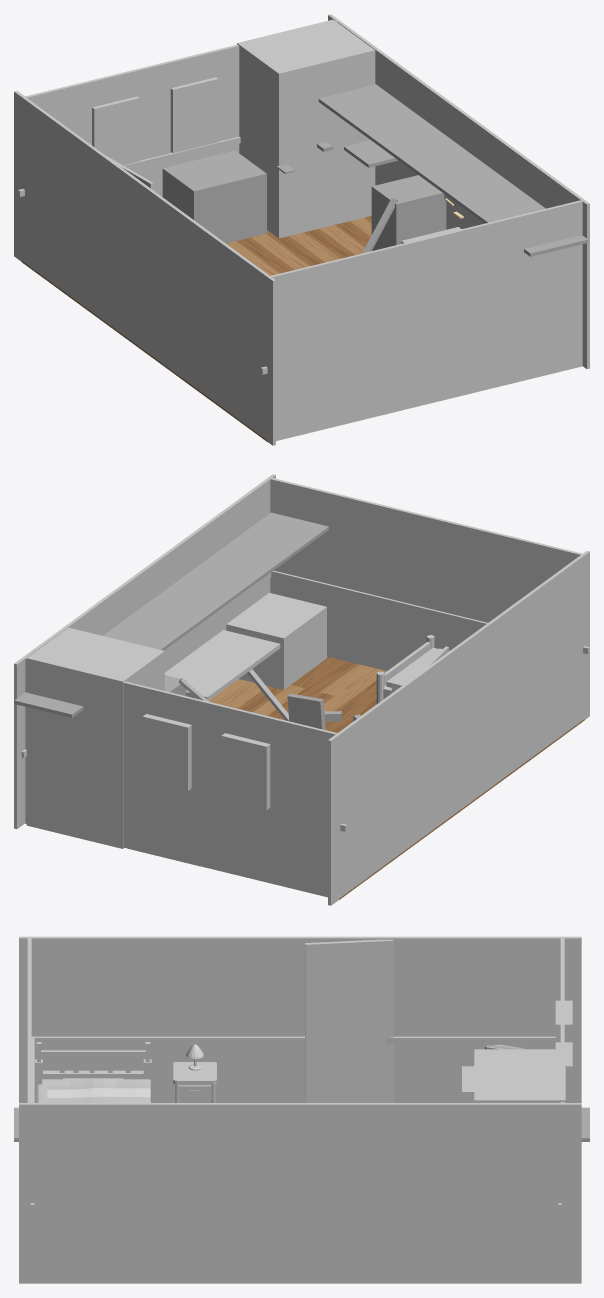
The model's file is maphome.fbx.
The picture shows the model from 3 angles, top to bottom: view 1: azimuth 30°, elevation 25°; view 2: azimuth 150°, elevation 25°; view 3: azimuth 270°, elevation 25°; orthographic projection. The views are drawn at different scales.
Visible parts, largest first — view 1: Cube.014, Cube.015, Cube.021, Cube__2_, Cube__31_, Cube, Cube__7_, Cube.018, Cube.017, Cube.019, Cube__28_; view 2: Cube.014, Cube.015, Cube.021, Cube__2_, Cube, Cube.012, Cube.022, Cube.017, Cube.018, Cube.019, Cube__14_, Cube.020; view 3: Cube.015, Cube.016, Cube.021, Cube.020, Cube.008, Cube.003, Cube.009, Cube.014, Cube.007, Cube.017, Cube.018, Cube__2_ (+1 smaller).
Part boxes in pixels (<box>): Cube.014: <box>23,20,582,440</box>; Cube.015: <box>14,14,589,445</box>; Cube.021: <box>237,19,375,238</box>; Cube__2_: <box>318,84,587,256</box>; Cube__31_: <box>162,150,266,243</box>; Cube: <box>22,216,371,442</box>; Cube__7_: <box>371,175,446,250</box>; Cube.018: <box>170,77,218,153</box>; Cube.017: <box>92,96,139,165</box>; Cube.019: <box>18,136,267,374</box>; Cube__28_: <box>344,140,398,167</box>; Cube.014: <box>25,478,584,897</box>; Cube.015: <box>14,474,589,905</box>; Cube.021: <box>26,627,164,848</box>; Cube__2_: <box>14,512,328,717</box>; Cube: <box>209,656,584,899</box>; Cube.012: <box>226,593,326,689</box>; Cube.022: <box>165,630,280,700</box>; Cube.017: <box>221,733,270,809</box>; Cube.018: <box>142,714,191,790</box>; Cube.019: <box>271,570,589,831</box>; Cube__14_: <box>287,693,325,729</box>; Cube.020: <box>21,572,271,757</box>; Cube.015: <box>19,936,581,1283</box>; Cube.016: <box>305,939,393,1102</box>; Cube.021: <box>474,1049,565,1102</box>; Cube.020: <box>34,1036,555,1044</box>; Cube.008: <box>47,1078,152,1102</box>; Cube.003: <box>35,1042,151,1102</box>; Cube.009: <box>173,1062,216,1100</box>; Cube.014: <box>27,937,564,1102</box>; Cube.007: <box>42,1070,144,1079</box>; Cube.017: <box>555,1000,572,1042</box>; Cube.018: <box>555,1042,572,1102</box>; Cube__2_: <box>14,1107,589,1141</box>.
Bounding box in the file's own units: 20637 × 14976 × 29159.
